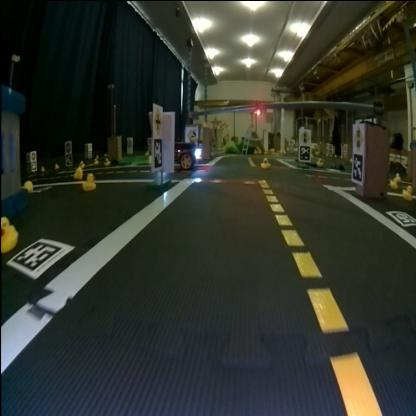Duckie: (2, 217, 18, 252), (82, 172, 96, 190), (23, 178, 32, 192), (260, 156, 270, 166), (74, 166, 82, 178)
Intersection sign: (154, 104, 162, 134)
QR code: (6, 237, 72, 277), (385, 209, 415, 226), (351, 152, 364, 182), (152, 136, 162, 166), (300, 144, 308, 158), (65, 152, 71, 162), (30, 160, 36, 168)
Signal sign: (352, 122, 364, 150), (299, 129, 310, 141)
